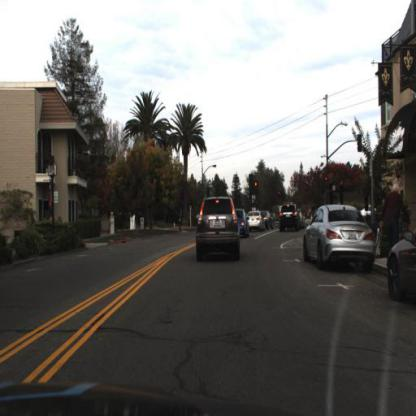car: (301, 202, 376, 265), (196, 197, 242, 257), (386, 224, 416, 309), (279, 203, 302, 234), (249, 210, 268, 234), (237, 208, 251, 237), (263, 209, 276, 231)
pedestrian: (379, 183, 411, 263)
